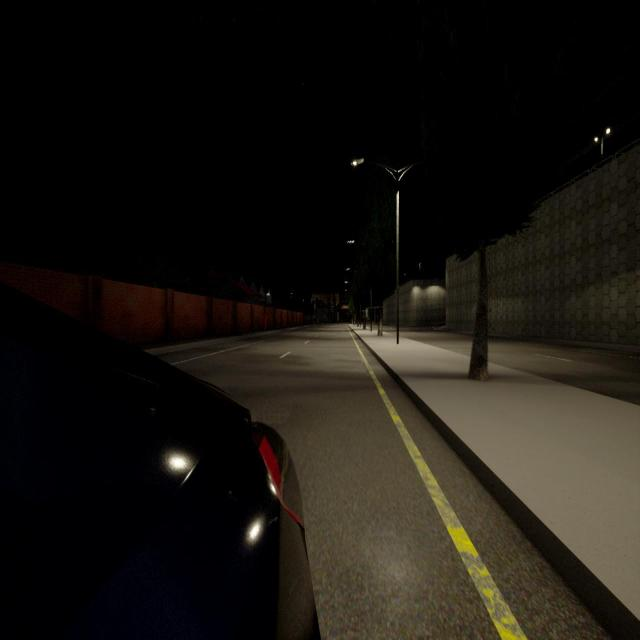Vehicle: (0, 291, 313, 637)
